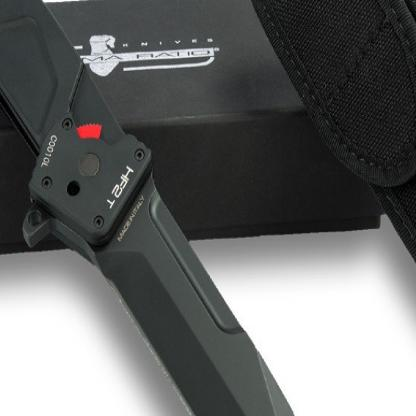knife: (82, 157, 344, 415)
